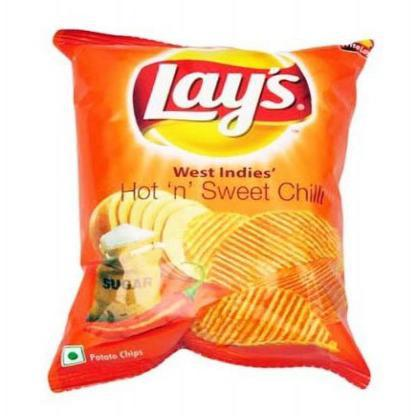hot_and_sweet: (53, 29, 376, 394)
